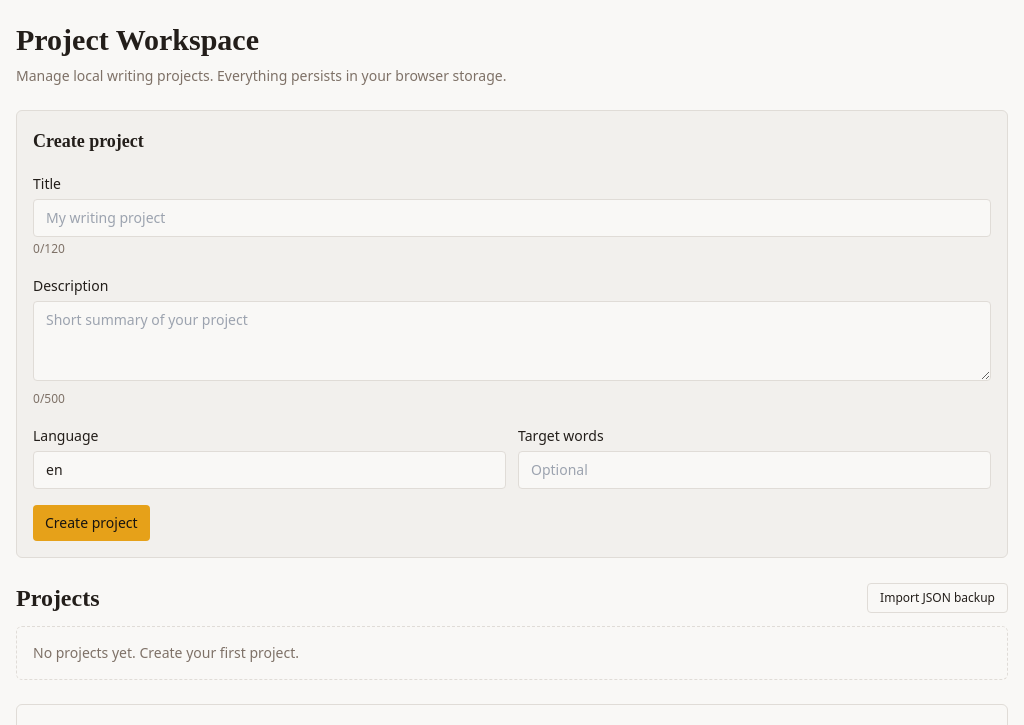
Test: WorkspacePage › edits an existing project
Check: the text "No projects yet. Create your first project." is shown, box [16,626,1008,680]
Type "Draft Name" into the field labelled "Title" at (512, 218), box [33,199,991,237]
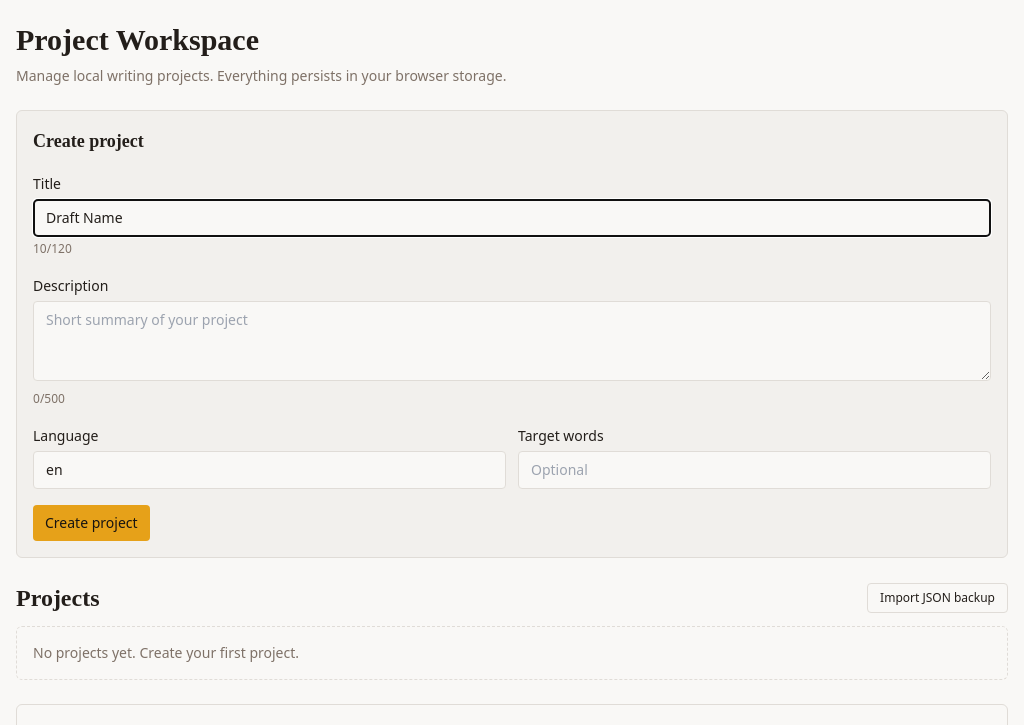
Click the button "Create project" at (91, 523), box [33,505,150,541]
(page scrolled)
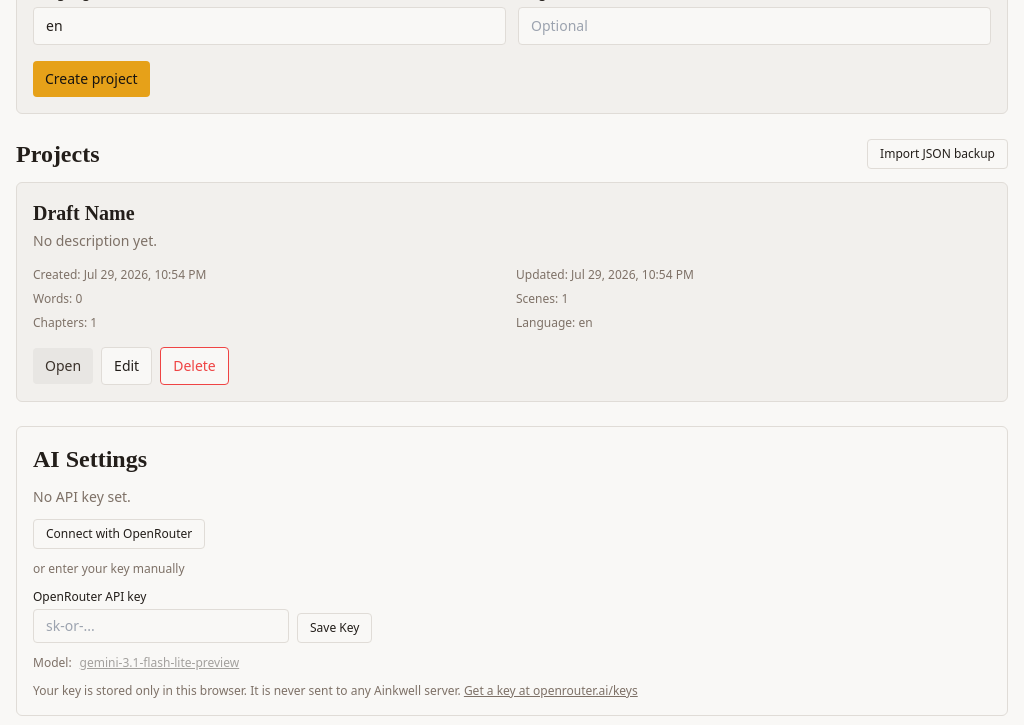
Check: the text "Draft Name" is shown, box [33,202,135,224]
Click the button "Edit" at (127, 366), box [101,347,152,385]
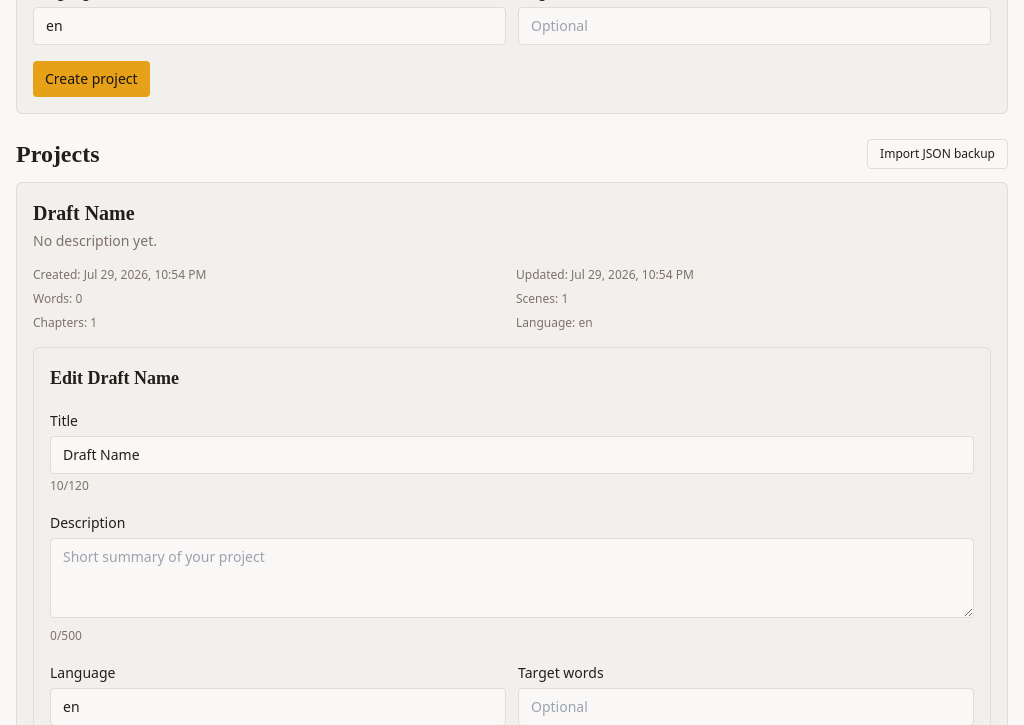
Replace the text in the field labelled "Title" with "Revised Name" at (512, 455), box [50,436,974,474]
(page scrolled)
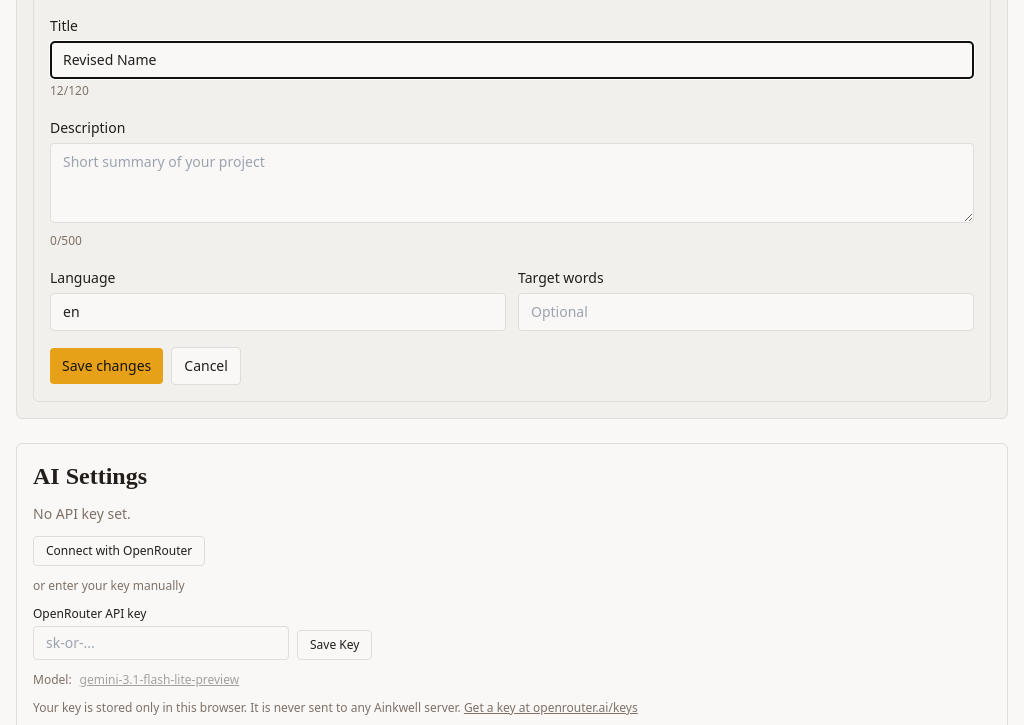
Click the button "Save changes" at (107, 366), box [50,348,163,384]
(page scrolled)
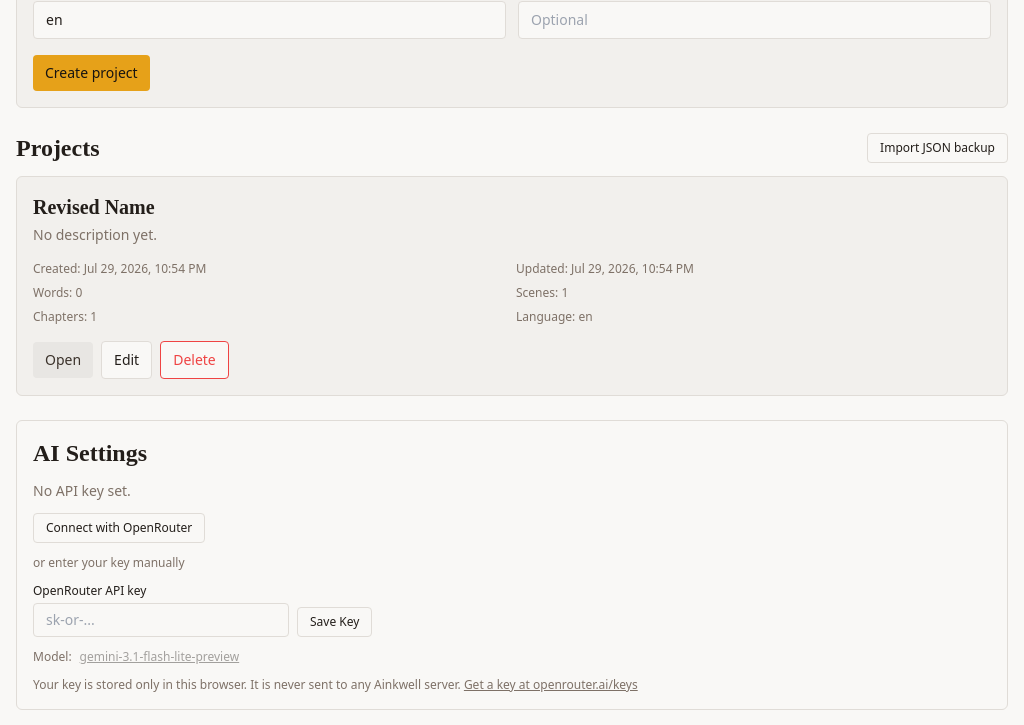
Check: the heading "Revised Name" is shown, box [33,196,155,218]
